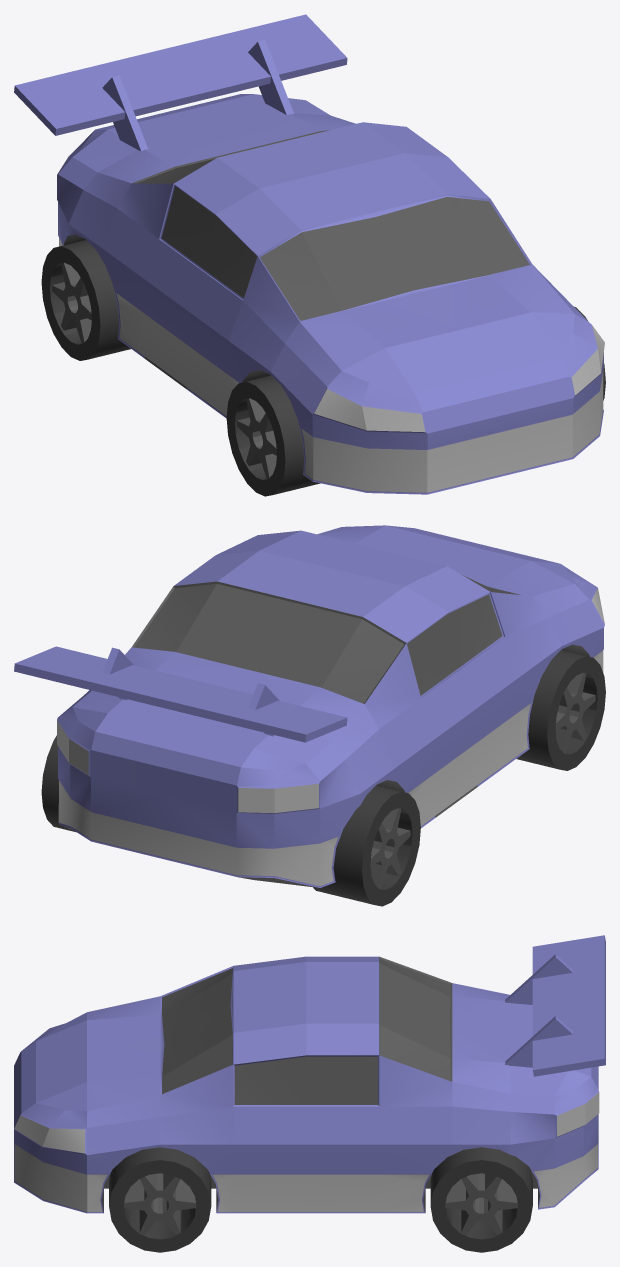
File: CarBlue2.fbx
3 views of the same model, one above another, from view 1: azimuth 30°, elevation 25°; view 2: azimuth 150°, elevation 25°; view 3: azimuth 270°, elevation 25° (orthographic). The views are drawn at different scales.
Visible parts, largest first — view 1: pCube173; view 2: pCube173; view 3: pCube173.
Boxes of the visible parts, x1,y1,x2,y2 form: pCube173: (14, 14, 605, 496); pCube173: (14, 525, 605, 906); pCube173: (14, 935, 605, 1252).
Size of the model in its own units: 2.2 by 1.5 by 4.05.
